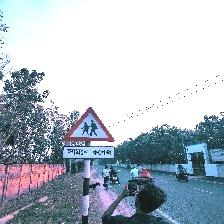College-in-front: (61, 98, 127, 164)
